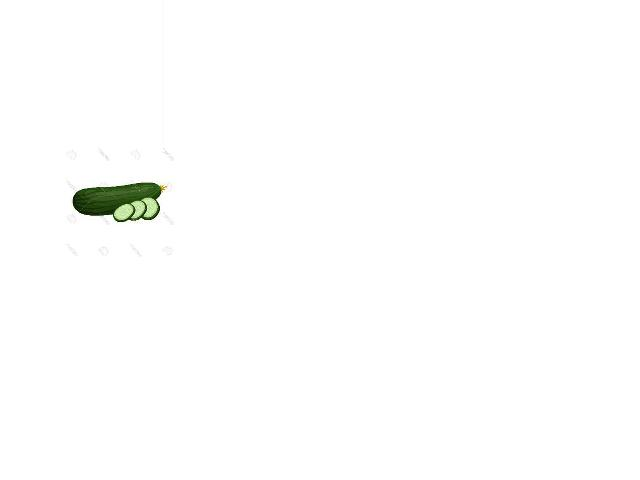cucumber: (71, 183, 166, 216)
